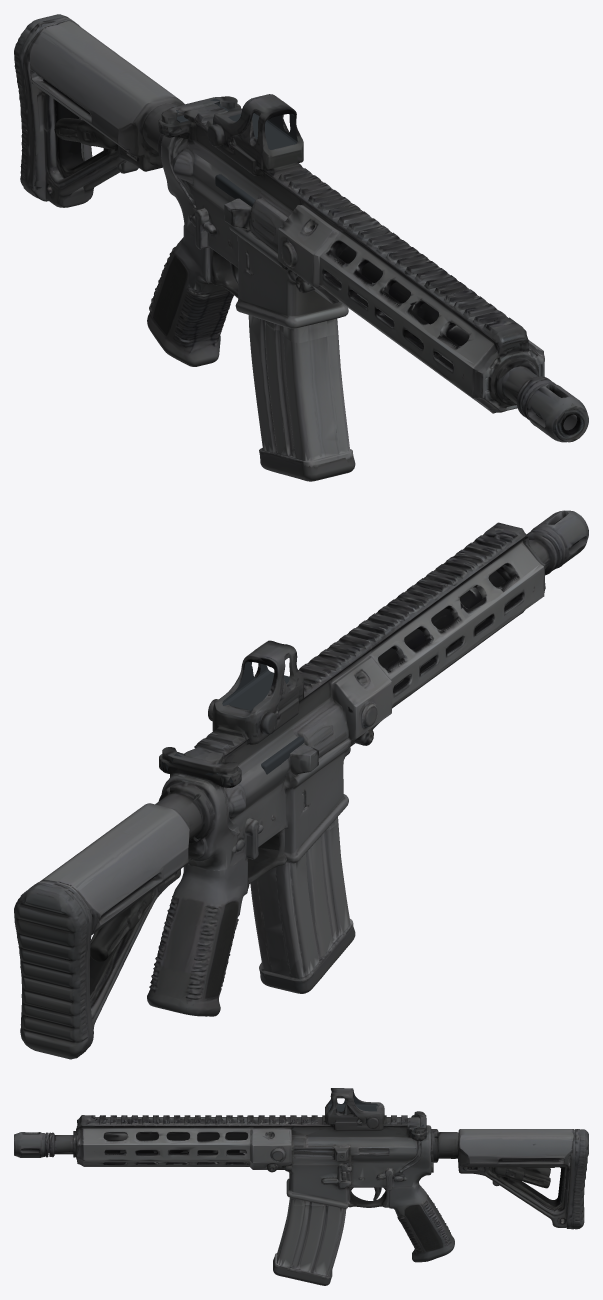
3 renders of one model, top to bottom at view 1: azimuth 30°, elevation 25°; view 2: azimuth 150°, elevation 25°; view 3: azimuth 270°, elevation 25°, orthographic. The views are drawn at different scales.
Parts seen in each view (by area): view 1: Body, Stock, Magazine, ChargingHandle; view 2: Body, Stock, Magazine, ChargingHandle; view 3: Body, Stock, Magazine.
Part boxes in pixels (x1,y1,x2,y2): Body: [147, 94, 588, 442]; Stock: [14, 14, 184, 207]; Magazine: [236, 309, 355, 481]; ChargingHandle: [158, 96, 240, 133]; Body: [147, 510, 588, 1016]; Stock: [14, 802, 190, 1059]; Magazine: [247, 823, 355, 993]; ChargingHandle: [159, 747, 241, 784]; Body: [14, 1088, 452, 1262]; Stock: [452, 1129, 588, 1249]; Magazine: [273, 1196, 357, 1285].
Size of the model in its own units: 13.36 by 51.68 by 141.
